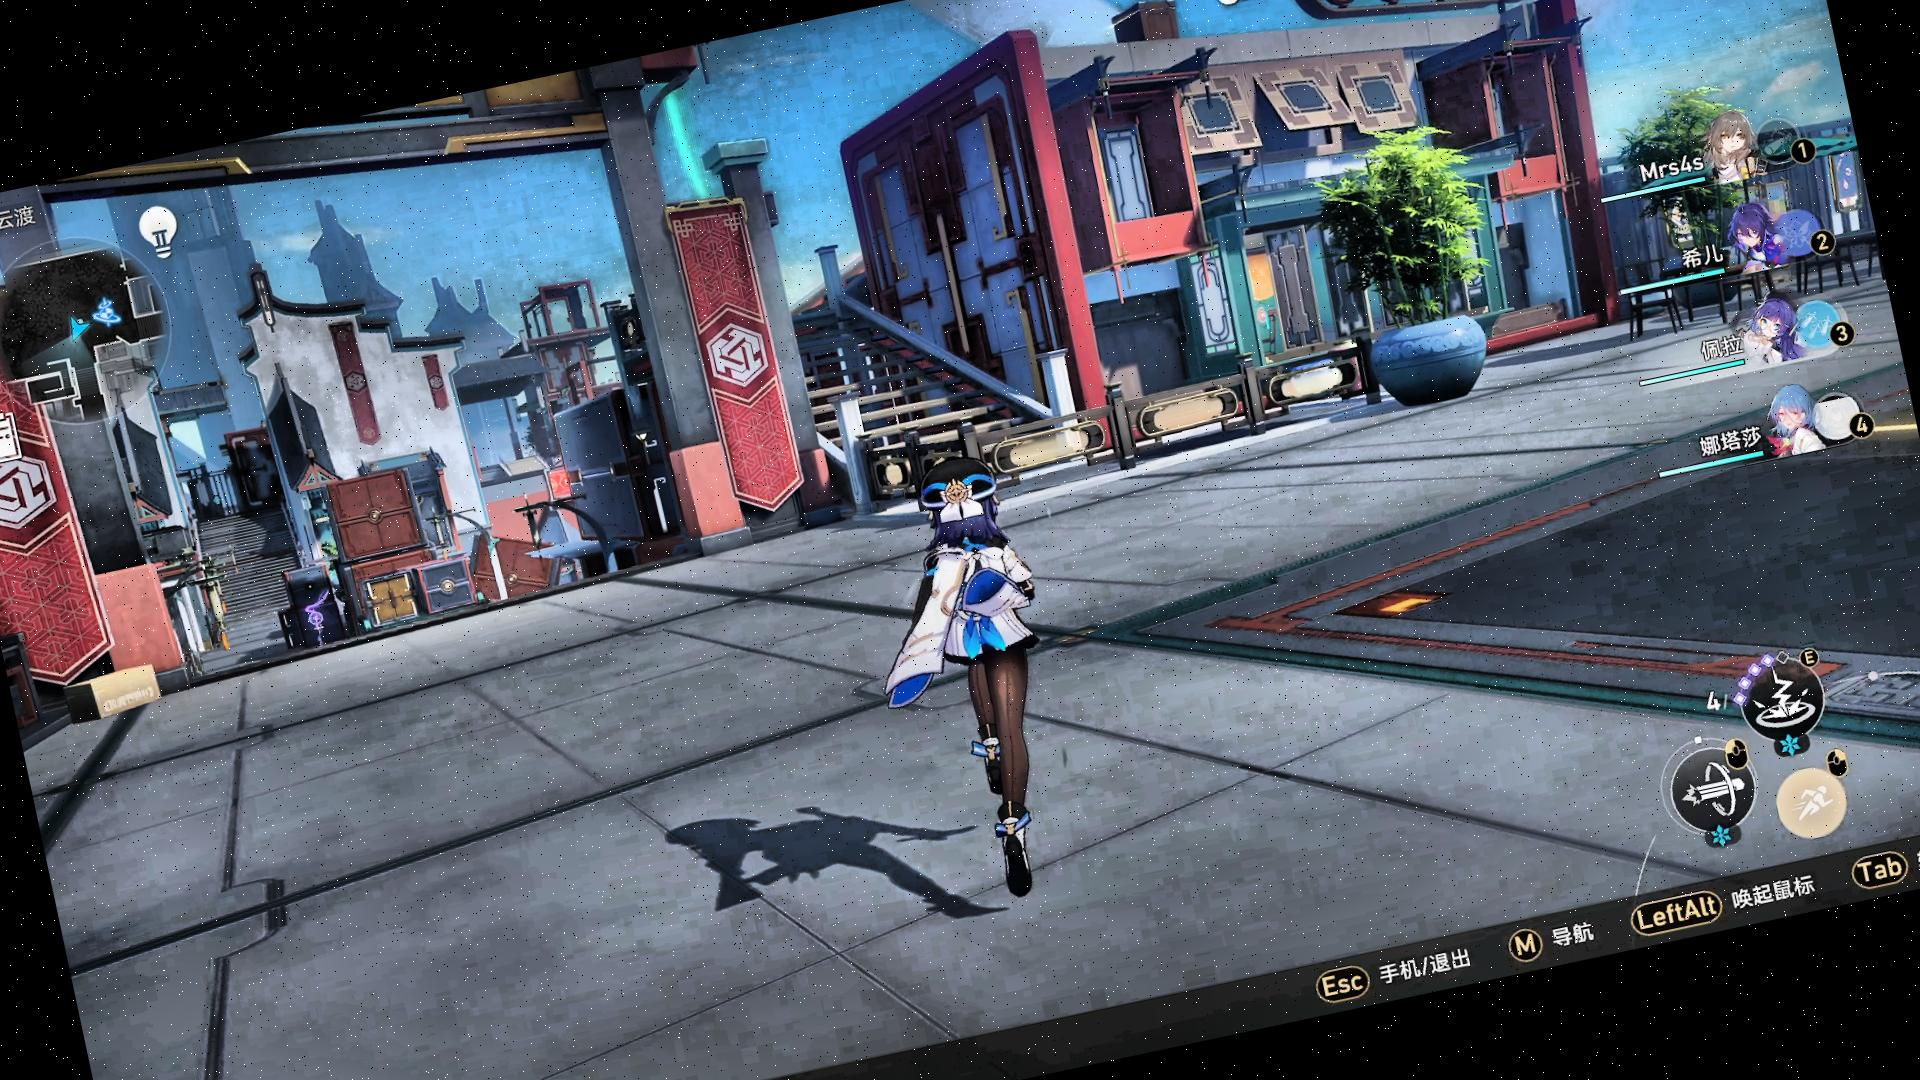Self: (862, 430, 1149, 939)
